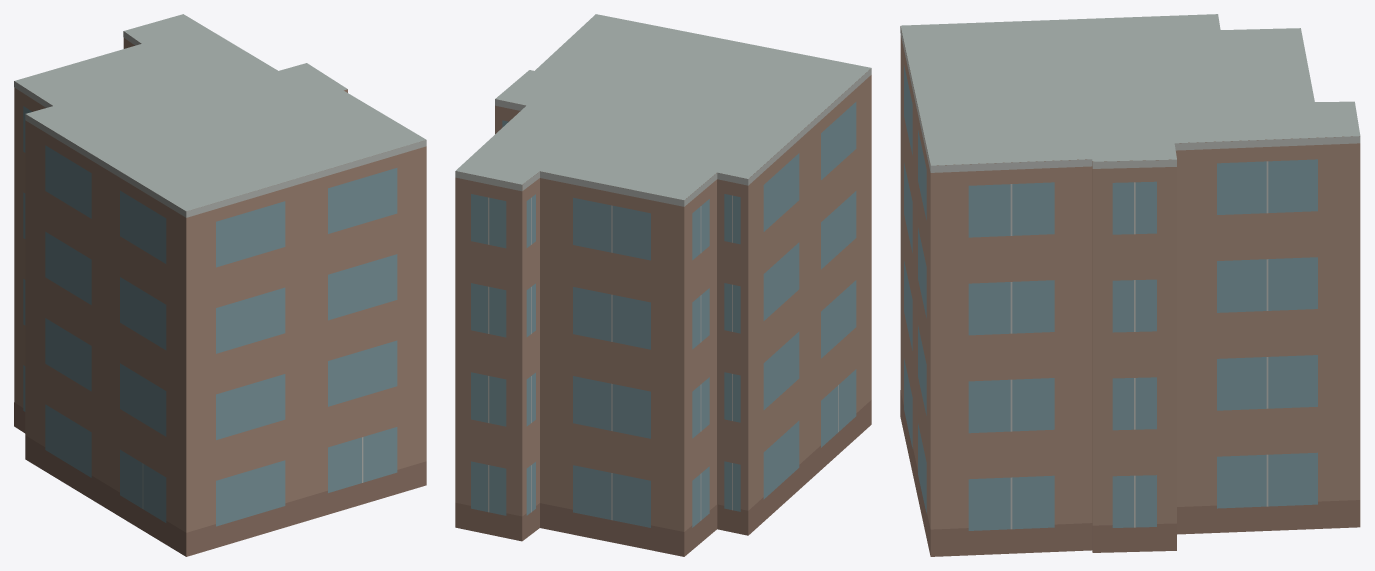
Rendered from survey-upis-33033635.glb.
3 renders of one model, left to right at view 1: azimuth 30°, elevation 25°; view 2: azimuth 150°, elevation 25°; view 3: azimuth 270°, elevation 25°, orthographic. The views are drawn at different scales.
Visible parts, largest first — view 1: survey-upis-33033635.tmp; view 2: survey-upis-33033635.tmp; view 3: survey-upis-33033635.tmp.
Part boxes in pixels (x1,y1,x2,y2): survey-upis-33033635.tmp: (14, 14, 426, 556); survey-upis-33033635.tmp: (455, 14, 871, 556); survey-upis-33033635.tmp: (900, 14, 1360, 556).
Size of the model in its own units: 10.9 by 13.1 by 13.97.
